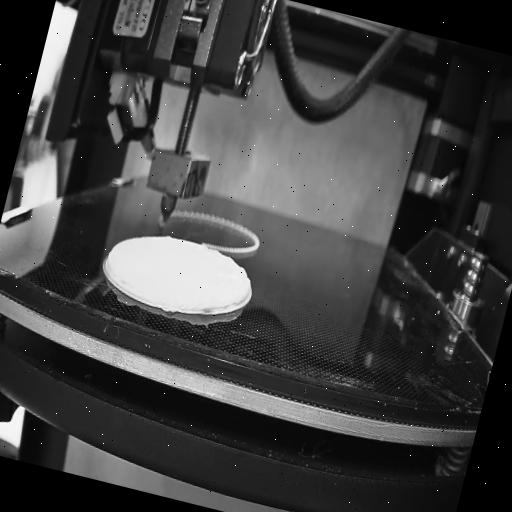over_extrusion: (225, 263, 256, 312)
